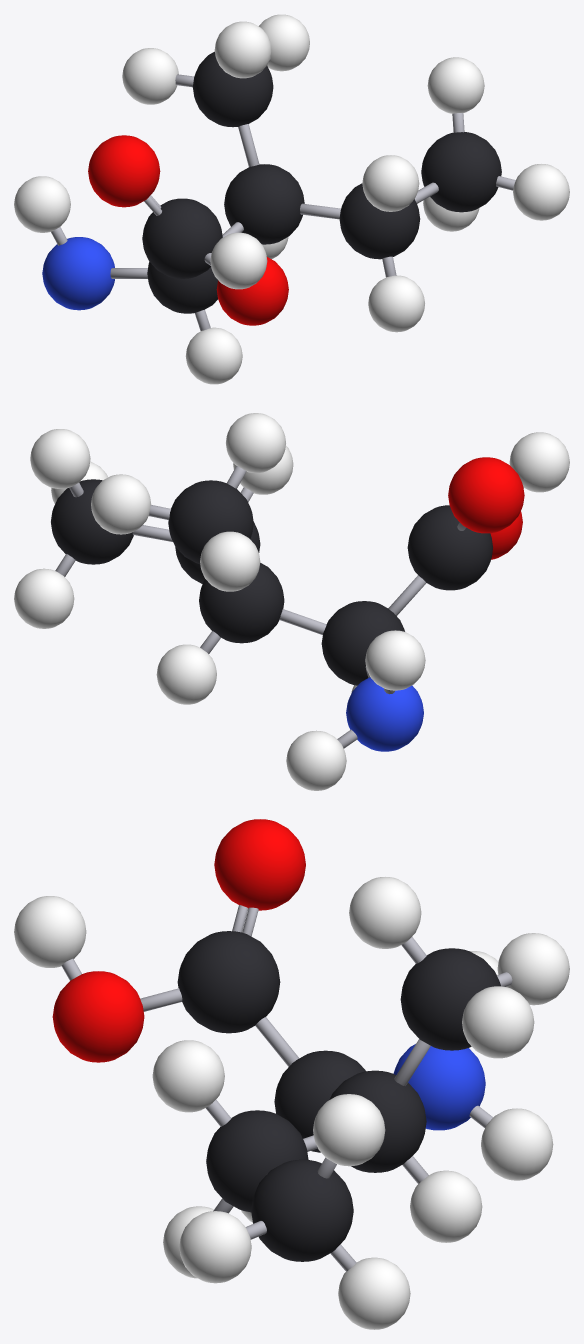
File: isoleucine.glb
3 views of the same model, one above another, from view 1: azimuth 30°, elevation 25°; view 2: azimuth 150°, elevation 25°; view 3: azimuth 270°, elevation 25° (orthographic). The views are drawn at different scales.
Visible parts, largest first — view 1: C0, C2, C6, N5, O7, C3, C1, O8, H16, H21, H11, H19 (+10 smaller); view 2: C6, O7, C3, C2, N5, C4, C0, H17, H19, H20, H14, H10 (+9 smaller); view 3: C6, C0, O8, O7, C3, C1, N5, C2, C4, H15, H12, H11 (+10 smaller).
Part boxes in pixels (x1,y1,x2,y2): C0: (421, 132, 501, 212); C2: (224, 164, 304, 244); C6: (142, 198, 222, 278); N5: (42, 237, 114, 310); O7: (88, 135, 160, 207); C3: (192, 51, 273, 127); C1: (339, 183, 420, 259); O8: (216, 257, 288, 325); H16: (214, 21, 271, 78); H21: (210, 232, 267, 289); H11: (513, 164, 569, 220); H19: (14, 176, 70, 232); C6: (407, 505, 492, 590); O7: (448, 457, 524, 533); C3: (168, 480, 253, 564); C2: (199, 563, 284, 643); N5: (346, 677, 423, 751); C4: (321, 601, 404, 685); C0: (51, 479, 133, 564); H17: (200, 531, 260, 591); H19: (365, 630, 425, 690); H20: (286, 730, 346, 790); H14: (156, 644, 216, 704); H10: (14, 568, 74, 628); C6: (177, 931, 280, 1033); C0: (251, 1159, 353, 1261); O8: (52, 971, 144, 1062); O7: (214, 819, 305, 910); C3: (400, 948, 500, 1050); C1: (206, 1110, 308, 1212); N5: (393, 1044, 485, 1130); C2: (329, 1070, 426, 1172); C4: (274, 1050, 365, 1152); H15: (462, 986, 534, 1058); H12: (152, 1040, 224, 1112); H11: (179, 1211, 251, 1283).
Size of the model in its own units: 6.65 by 4.28 by 5.52.
